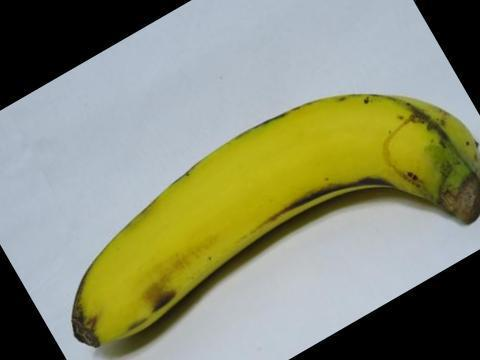freshripe: (61, 87, 472, 347)
